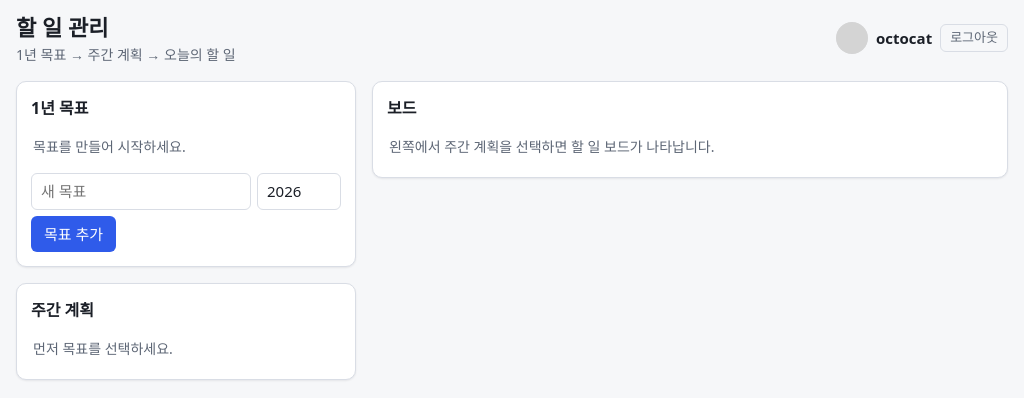
로그인했을 때 › 로그아웃 요청이 실패해도 오류를 알리고 화면은 로그인 상태로 둔다
Expected: the text "octocat" is shown, 876,27 -> 932,49
Click the button "로그아웃". click: (974, 38)
box: 940,24 -> 1008,52
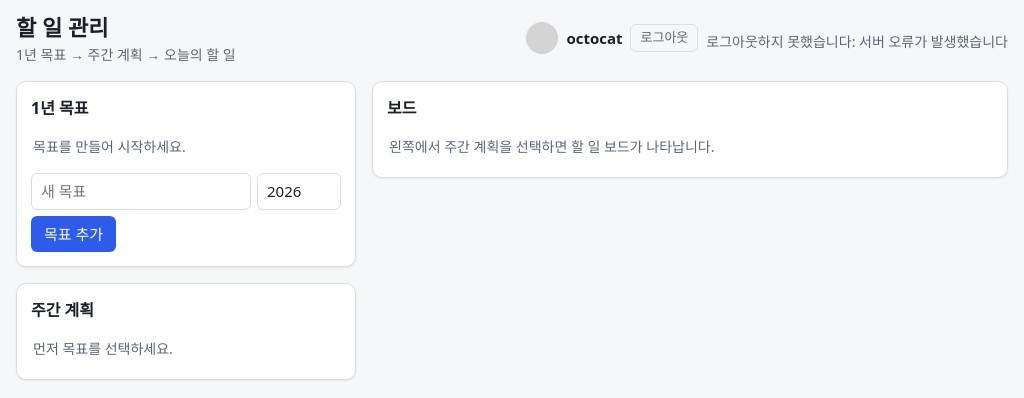
Expected: the text "octocat" is shown, 566,27 -> 622,49
Now the message shows "로그아웃하지 못했습니다", box 706,32 -> 859,50
